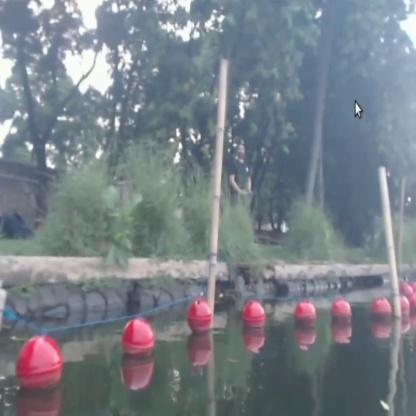red_buoy: (21, 336, 61, 390), (123, 321, 153, 356), (187, 302, 214, 336), (244, 302, 266, 334), (297, 300, 316, 329), (334, 298, 350, 326), (372, 298, 392, 320)
